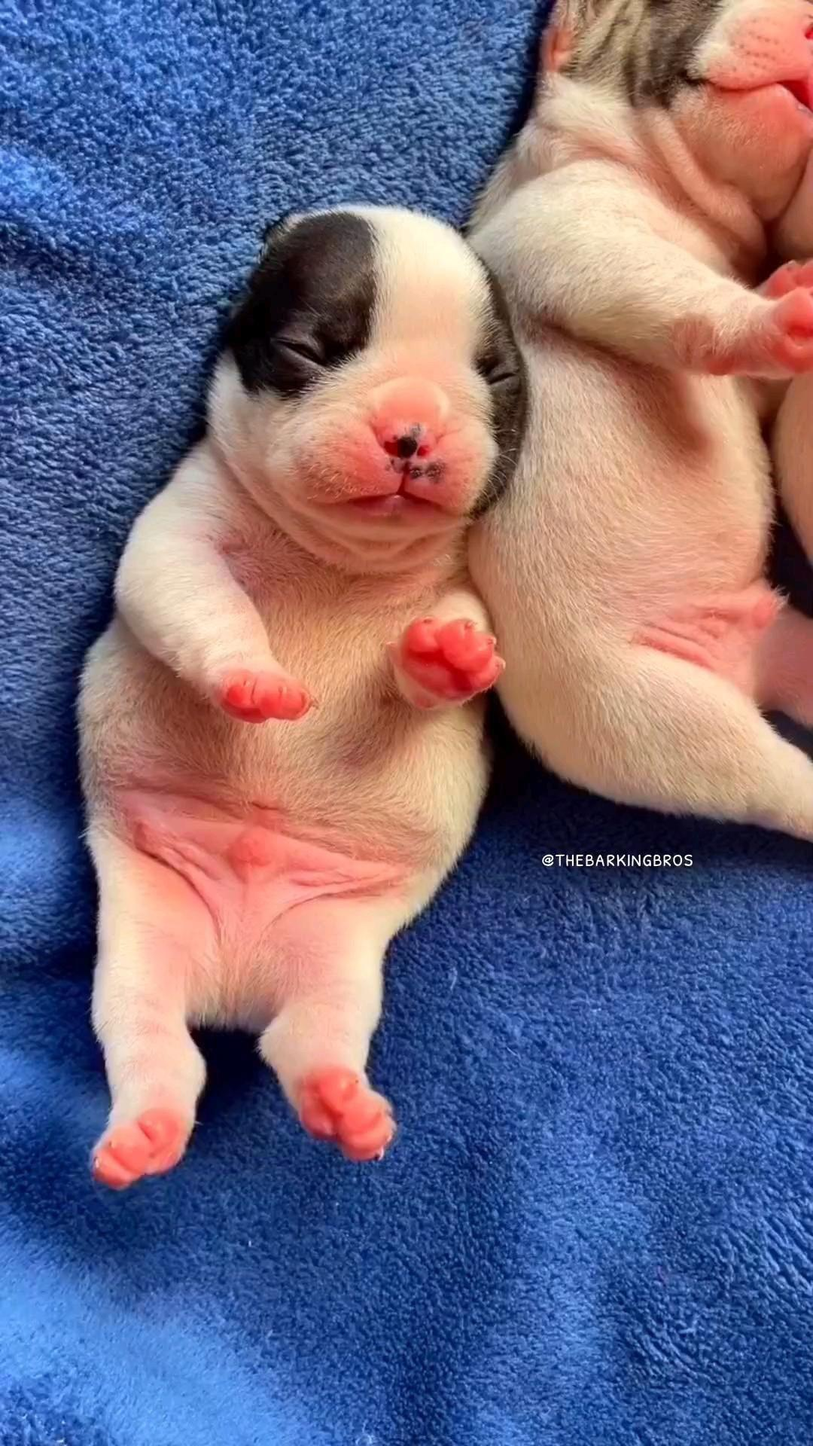puppy-dog: (76, 202, 531, 1197), (464, 1, 813, 841)
